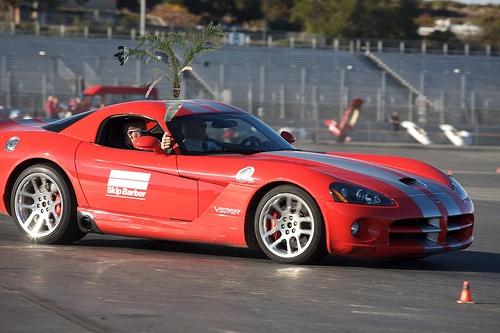tampered: (115, 22, 228, 122)
